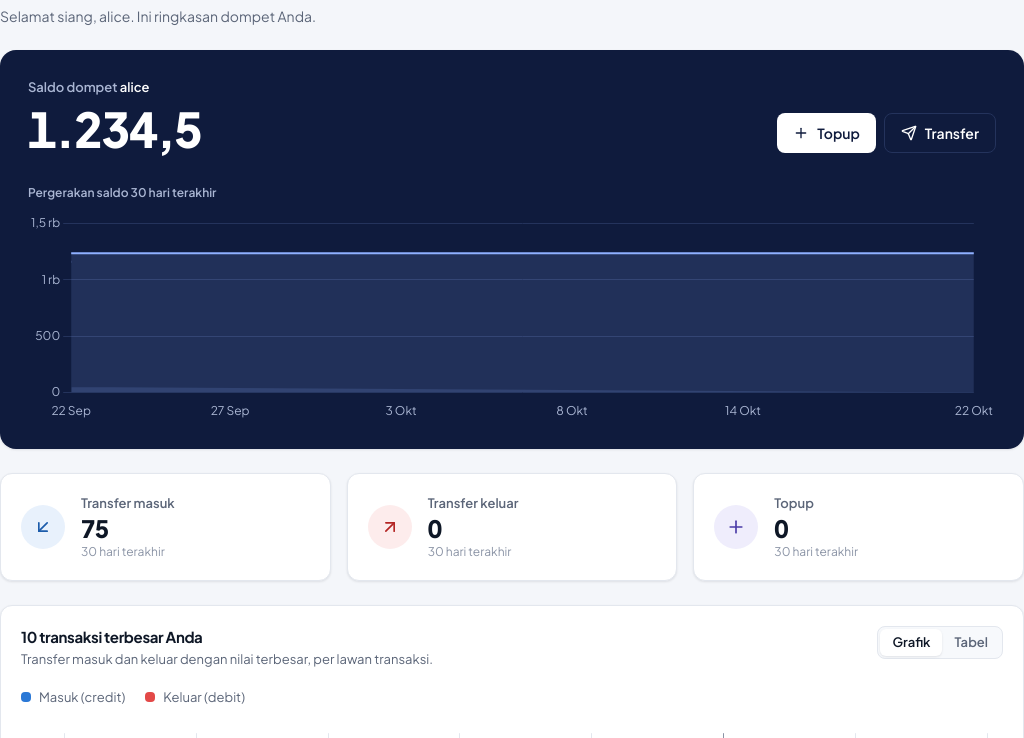
DashboardPage › shows the chart data as a table
The width and height of the screenshot is (1024, 738).
Click the button "Tabel".
click(971, 642)  # box x1=942 y1=629 x2=1000 y2=656
(page scrolled)
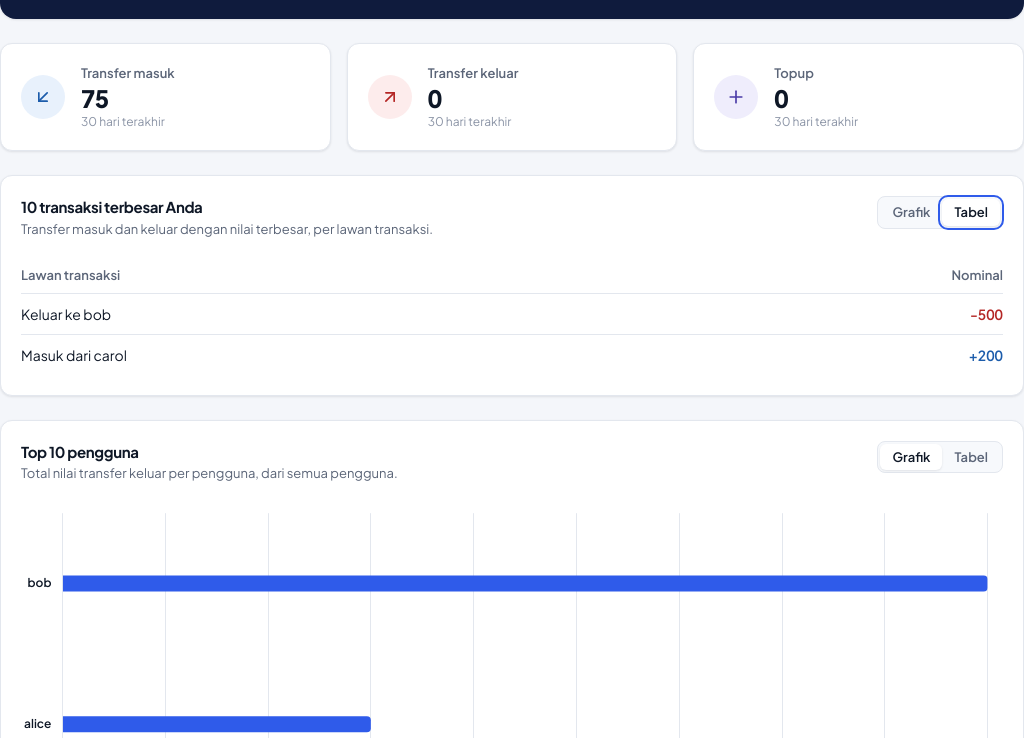
Now the cell "Keluar ke bob" is shown, box x1=21 y1=293 x2=682 y2=334
Now the cell "-500" is shown, box x1=682 y1=293 x2=1003 y2=334
Now the cell "Masuk dari carol" is shown, box x1=21 y1=334 x2=682 y2=375
